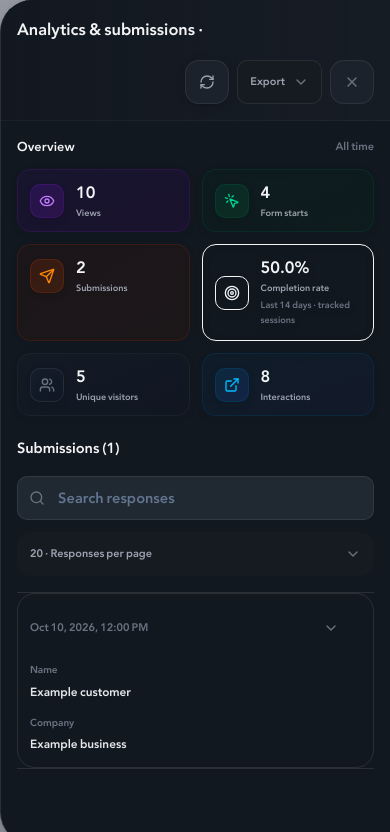
Test: combined form insights › searches on the server, resets pagination and expands full details only when requested
Expected: the text "Example customer" is shown, [30, 682, 131, 702]
In the field labelled "Search responses": {"x": 196, "y": 498} [17, 476, 374, 520], type "customer"
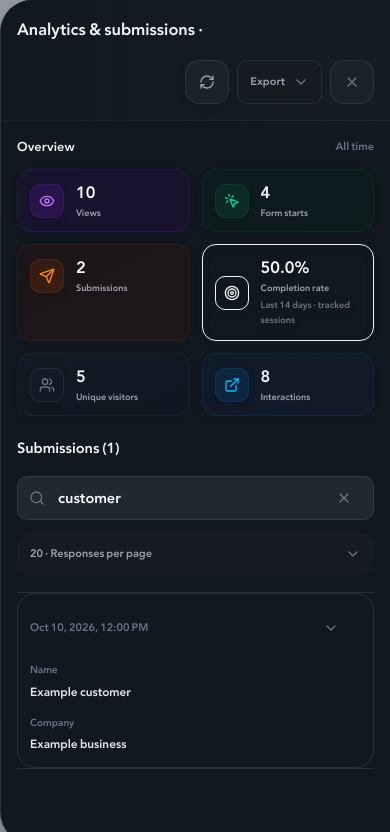
Click the button named "View answers": {"x": 339, "y": 628} [317, 606, 361, 650]
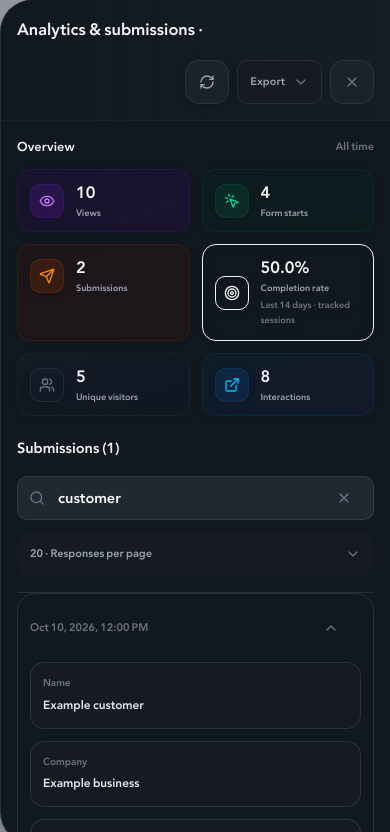
Expected: the button named "Hide answers" is expanded, [317, 606, 361, 650]
